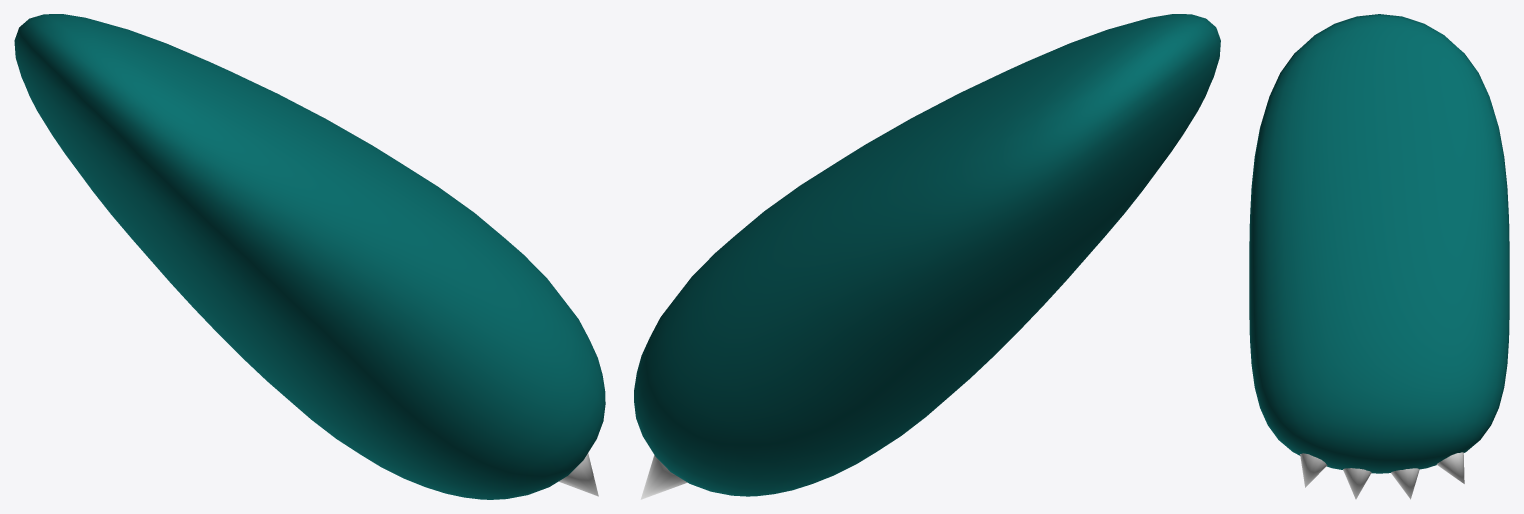
File: brazoizquierdosnorlax.fbx
3 renders of one model, left to right at view 1: azimuth 30°, elevation 25°; view 2: azimuth 150°, elevation 25°; view 3: azimuth 270°, elevation 25°, orthographic. The views are drawn at different scales.
Visible parts, largest first — view 1: brazo izquierdo; view 2: brazo izquierdo; view 3: brazo izquierdo.
Part boxes in pixels (bbox=[...]): brazo izquierdo: bbox=[14, 14, 605, 499]; brazo izquierdo: bbox=[634, 14, 1220, 499]; brazo izquierdo: bbox=[1249, 14, 1509, 499].
Bounding box in the file's own units: 200 × 202 × 140.
